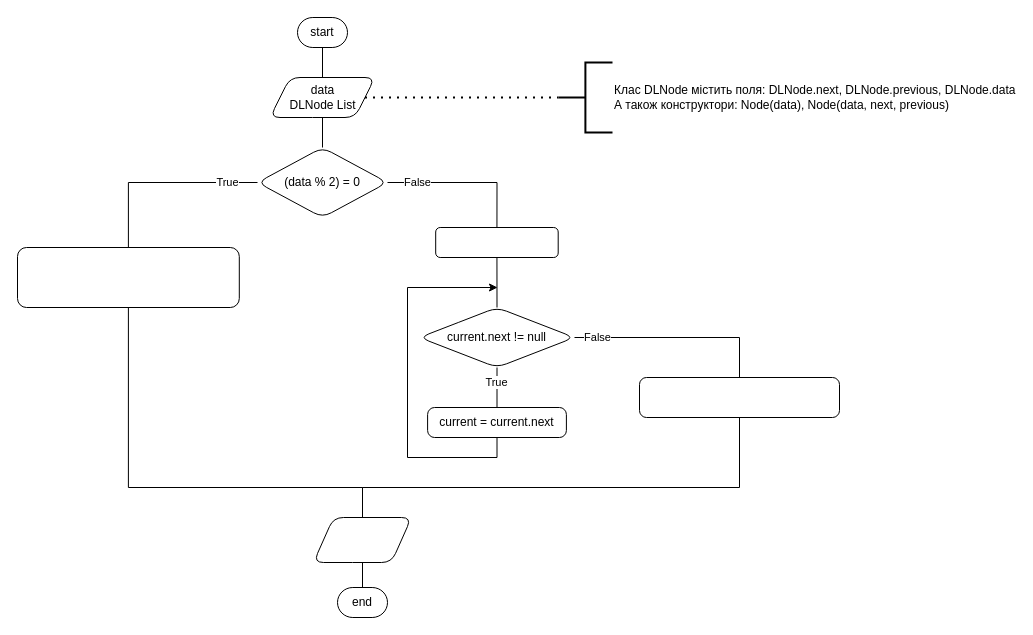
Some shapes in this 1033 by 635 pixel diagram are drawn without their labels. Here are the shapes that lost their labels. From the top down, the centre of each, then its label:
the point at 496,242: current = head
the point at 127,277: head.previous = newNode(data) newNode.next = head head = newNode
the point at 739,397: current.next = newNode(data) current.next.previous = current
the point at 362,539: List.Print
